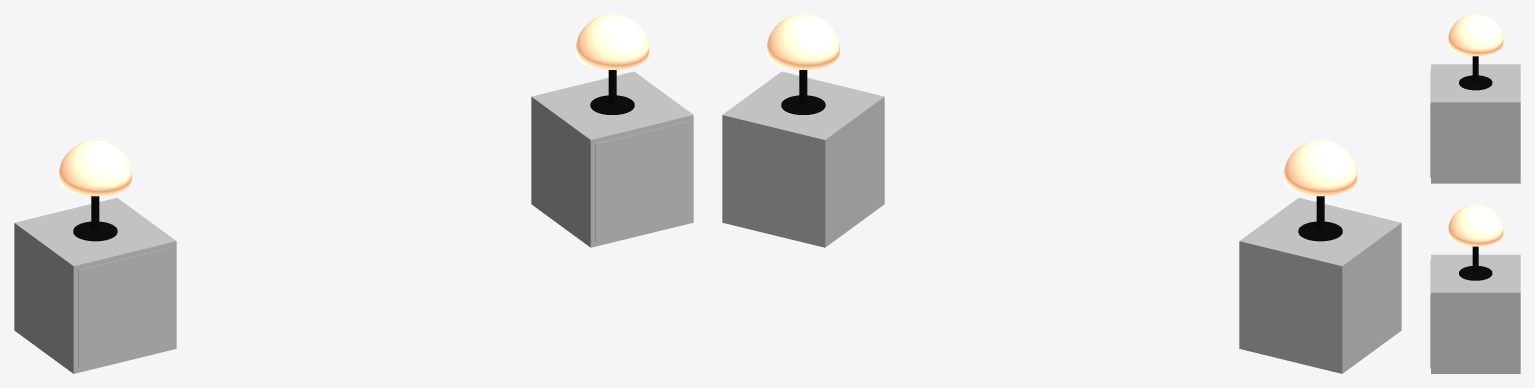
Rendered from lampu tidur.fbx.
The picture shows the model from 3 angles, left to right: view 1: azimuth 30°, elevation 25°; view 2: azimuth 150°, elevation 25°; view 3: azimuth 270°, elevation 25°; orthographic projection. The views are drawn at different scales.
Visible parts, largest first — view 1: Cube.020, Cube.003; view 2: Cube.020, Cube.003; view 3: Cube.020, Cube.003.
Part boxes in pixels (left/top/right/bottom): Cube.020: left=531, top=14, right=693, bottom=247; Cube.003: left=14, top=140, right=176, bottom=373; Cube.020: left=722, top=14, right=884, bottom=247; Cube.003: left=1239, top=140, right=1401, bottom=373; Cube.020: left=1430, top=204, right=1520, bottom=373; Cube.003: left=1430, top=14, right=1520, bottom=183.
Bounding box in the file's own units: 236 × 71.31 × 39.37.
